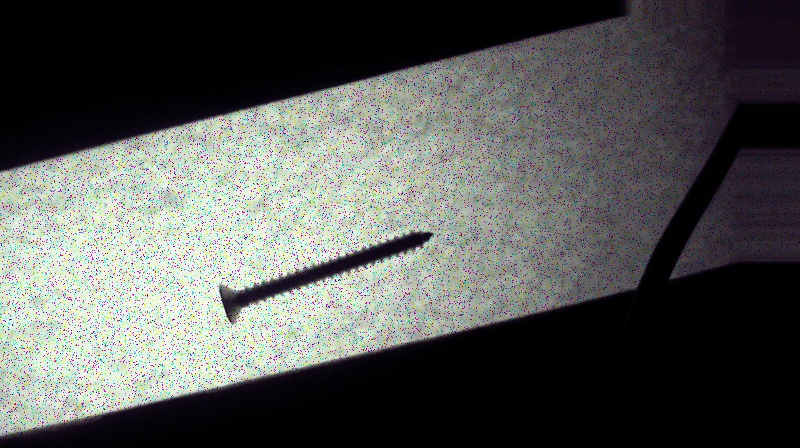S002: (215, 227, 437, 326)
